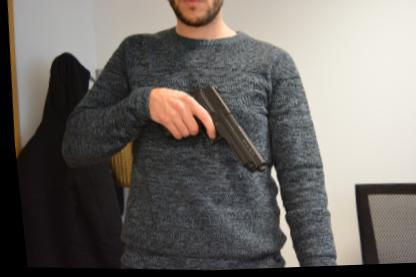pistol: (149, 78, 268, 177)
